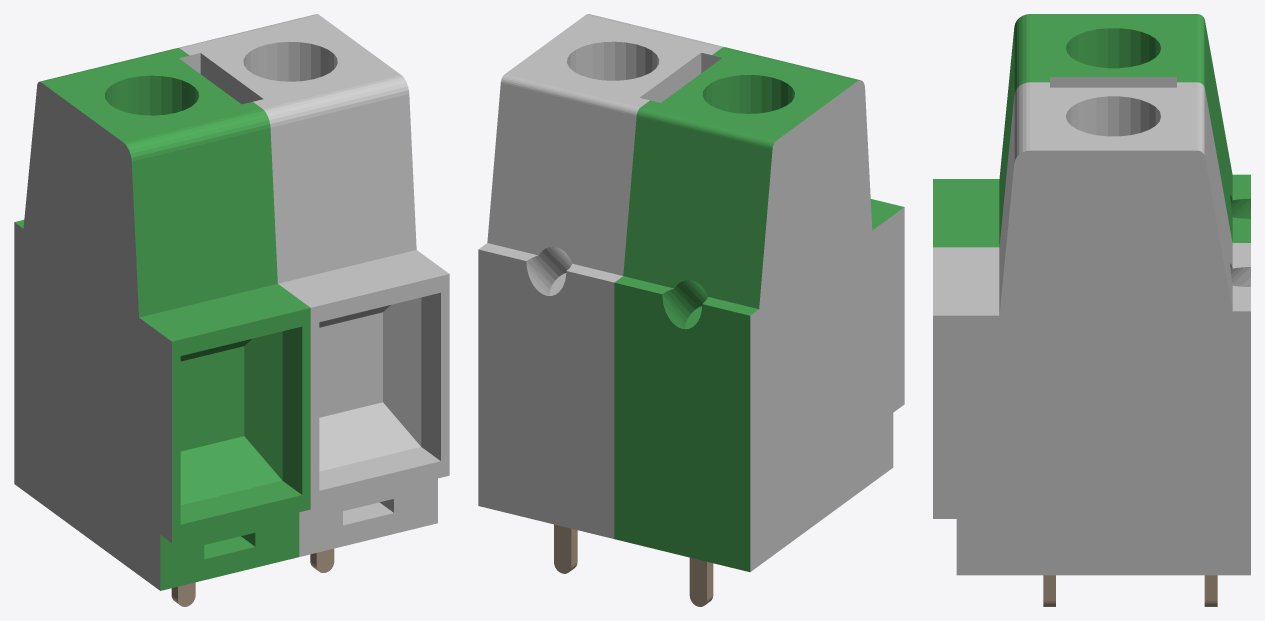
The picture shows the model from 3 angles, left to right: view 1: azimuth 30°, elevation 25°; view 2: azimuth 150°, elevation 25°; view 3: azimuth 270°, elevation 25°; orthographic projection. The views are drawn at different scales.
Parts seen in each view (by area): view 1: EM292902-UL; view 2: EM292902-UL; view 3: EM292902-UL.
Boxes of the visible parts, x1=… form: EM292902-UL: x1=14, y1=14, x2=449, y2=606; EM292902-UL: x1=478, y1=14, x2=904, y2=606; EM292902-UL: x1=933, y1=14, x2=1250, y2=606.
Bounding box in the file's own units: 0.0154 × 0.0257 × 0.0151.
